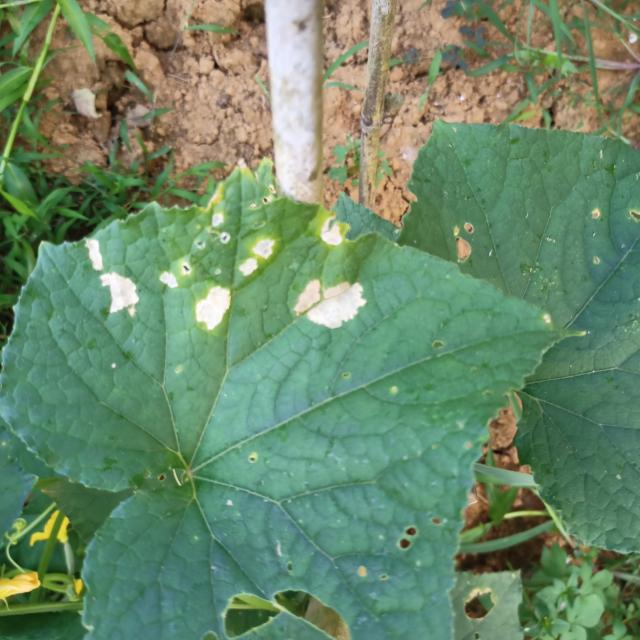disease_cucumber: (156, 208, 278, 337), (288, 271, 378, 340), (78, 238, 142, 325), (315, 214, 352, 254)
